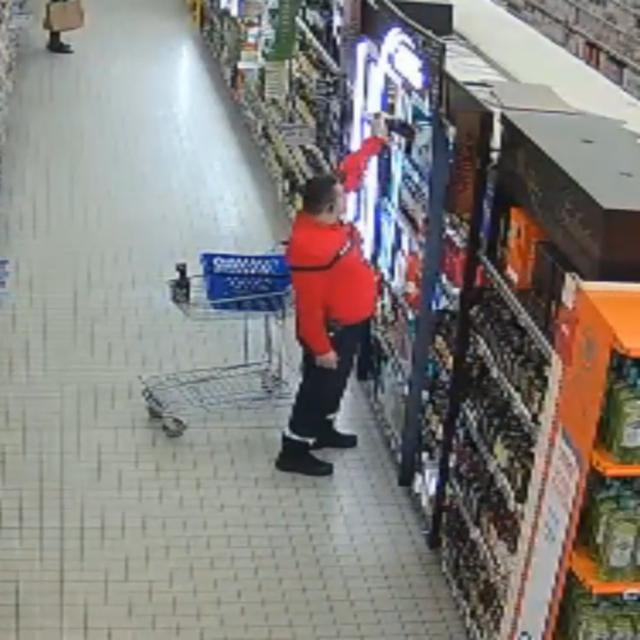article: (377, 145, 391, 200)
bags: (44, 0, 84, 31)
hands: (372, 112, 389, 138), (316, 351, 338, 369)
person: (276, 175, 376, 476), (47, 31, 72, 53)
